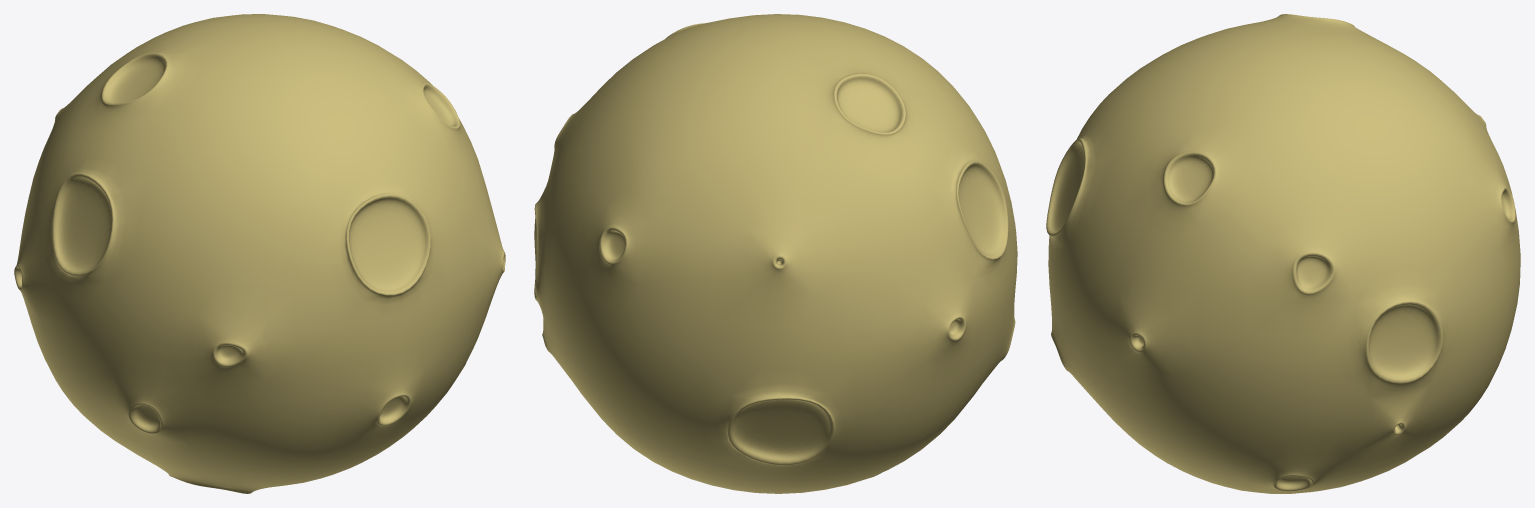
File: luna.fbx
3 renders of one model, left to right at view 1: azimuth 30°, elevation 25°; view 2: azimuth 150°, elevation 25°; view 3: azimuth 270°, elevation 25°, orthographic.
Parts seen in each view (by area): view 1: Cube; view 2: Cube; view 3: Cube.
Part boxes in pixels (x1=…): Cube: x1=14, y1=14, x2=505, y2=493; Cube: x1=534, y1=14, x2=1017, y2=493; Cube: x1=1046, y1=14, x2=1520, y2=493.
Bounding box in the file's own units: 165 × 163 × 164.
